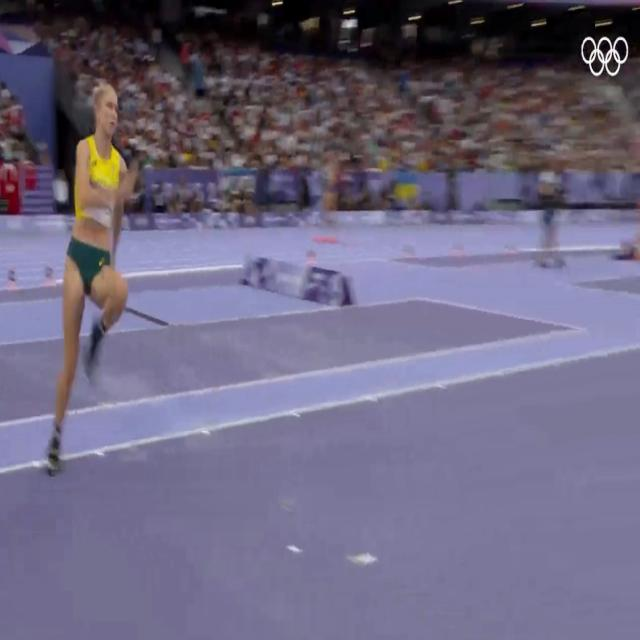run: (46, 61, 136, 475)
